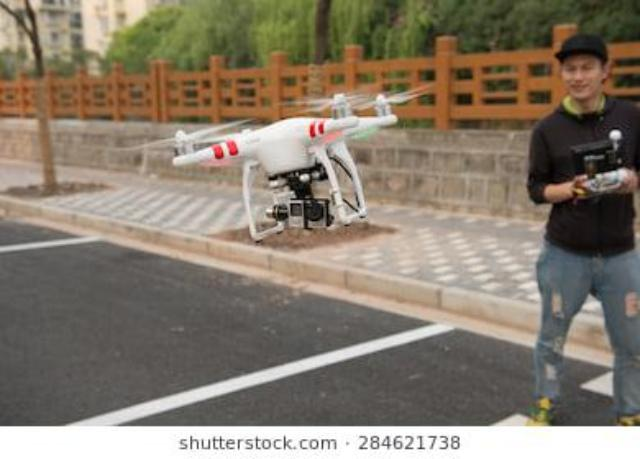drone: (138, 20, 442, 296)
